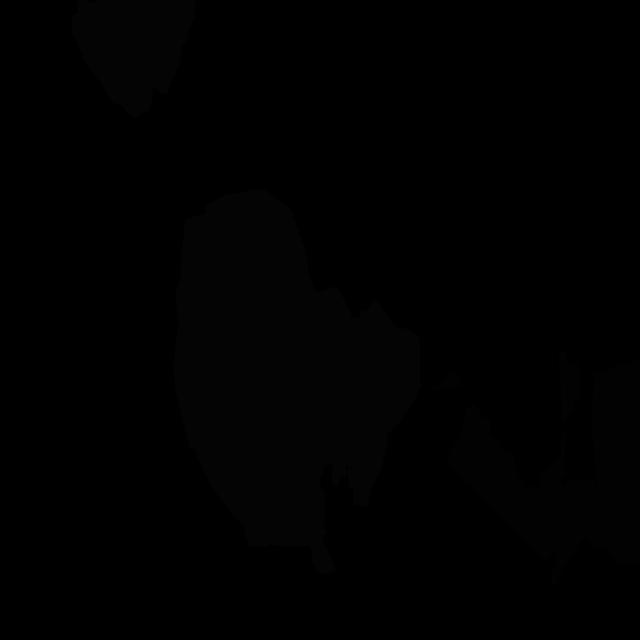cardboard: (446, 403, 543, 548), (532, 430, 610, 588), (591, 358, 640, 566), (558, 347, 580, 421), (430, 371, 468, 390)
soft_plastic: (174, 189, 364, 575), (288, 300, 420, 487), (71, 0, 196, 118), (347, 467, 380, 508)
